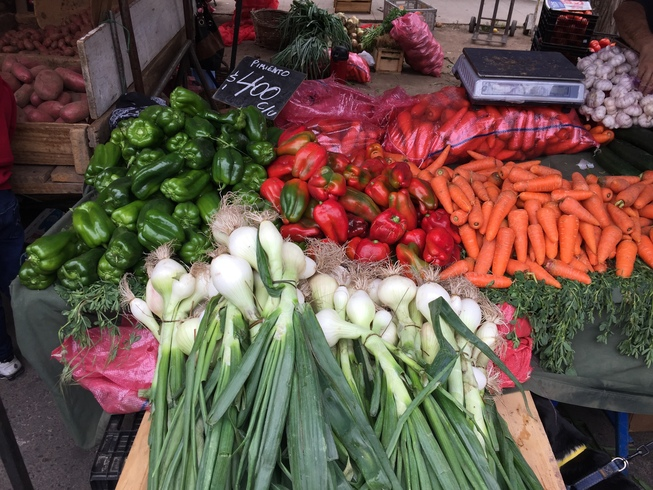precio: (220, 54, 310, 128)
